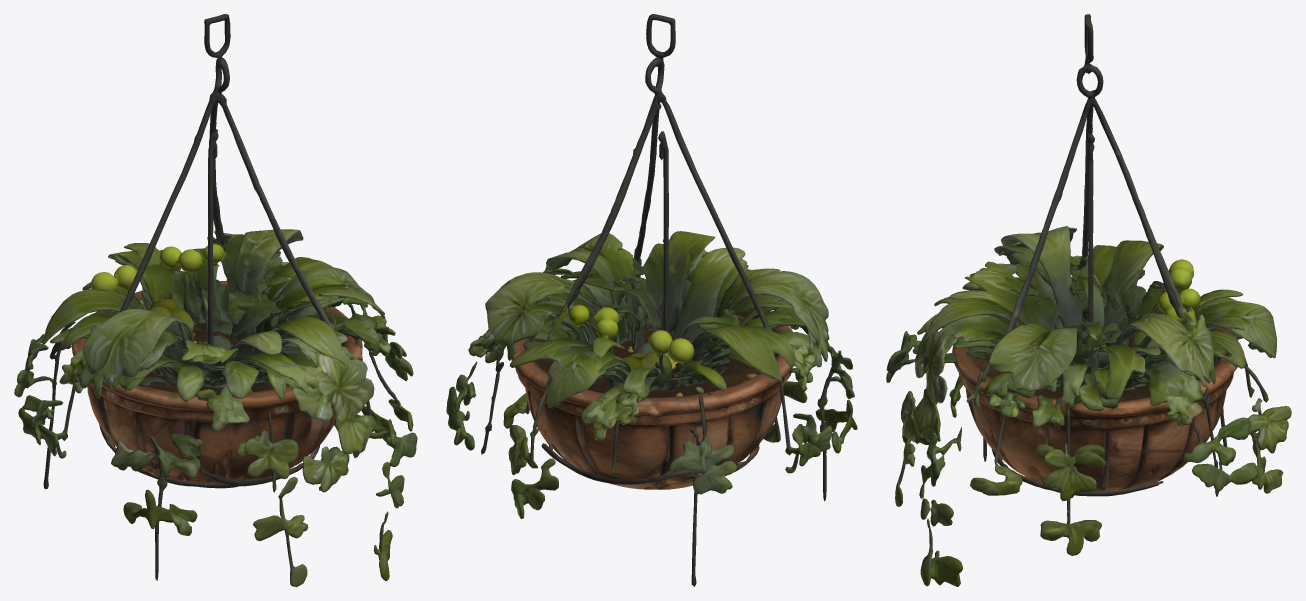
File: prop-planter-hanging.glb
3 views of the same model, side by side, from view 1: azimuth 30°, elevation 25°; view 2: azimuth 150°, elevation 25°; view 3: azimuth 270°, elevation 25° (orthographic).
Visible parts, largest first — view 1: tripo_node_7323d33e-cb04-46a6-be5a-ef4eaec15774; view 2: tripo_node_7323d33e-cb04-46a6-be5a-ef4eaec15774; view 3: tripo_node_7323d33e-cb04-46a6-be5a-ef4eaec15774.
Boxes of the visible parts, left/top/right/bottom form: tripo_node_7323d33e-cb04-46a6-be5a-ef4eaec15774: left=14, top=14, right=417, bottom=586; tripo_node_7323d33e-cb04-46a6-be5a-ef4eaec15774: left=446, top=14, right=857, bottom=586; tripo_node_7323d33e-cb04-46a6-be5a-ef4eaec15774: left=886, top=14, right=1291, bottom=586.
Bounding box in the file's own units: 0.6976 × 1 × 0.7022.
Materials: 1 (1 with a texture image).
